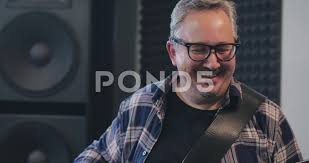white_male: (165, 3, 239, 84)
